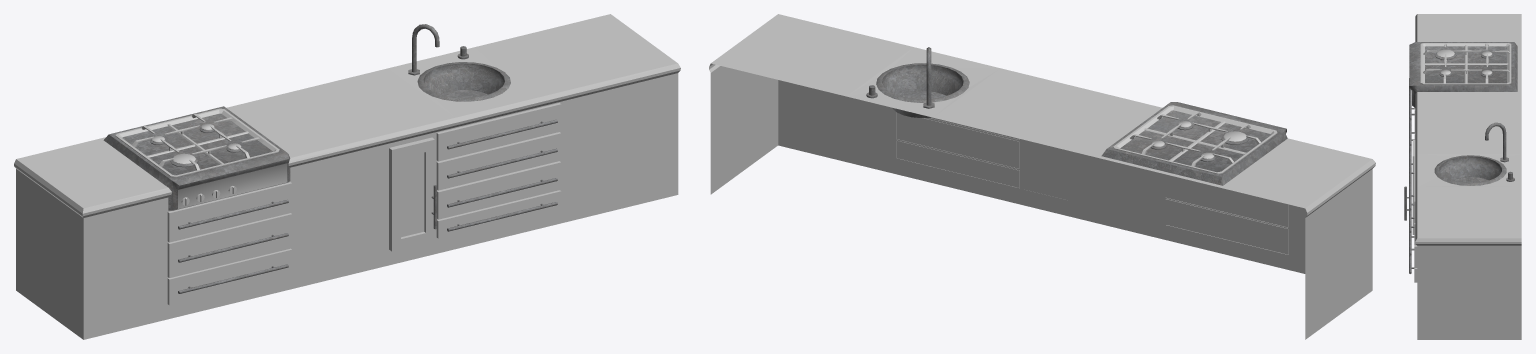
The model's file is SM_Kitchen_Top_1.FBX.
3 views of the same model, side by side, from view 1: azimuth 30°, elevation 25°; view 2: azimuth 150°, elevation 25°; view 3: azimuth 270°, elevation 25° (orthographic). The views are drawn at different scales.
Visible parts, largest first — view 1: SM_Kitchen_Top_1; view 2: SM_Kitchen_Top_1; view 3: SM_Kitchen_Top_1.
Part boxes in pixels (x1,y1,x2,y2): SM_Kitchen_Top_1: (14, 14, 680, 339); SM_Kitchen_Top_1: (709, 14, 1375, 339); SM_Kitchen_Top_1: (1404, 14, 1521, 339).
Size of the model in its own units: 4.46 by 1.3 by 0.9774.
